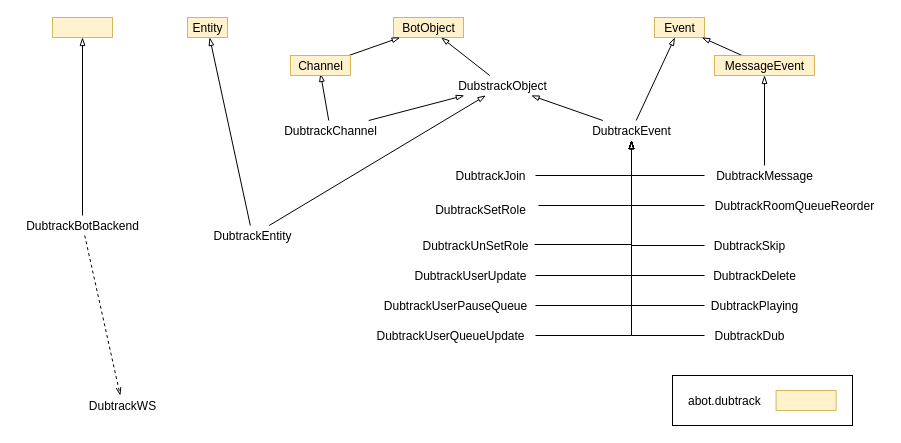
Some shapes in this 901 by 443 pixel diagram are drawn without their labels. The shapes that lost their labels are listed below. From the top down, each one's centre as x and y in pixels, then its label:
At point (82, 27): "Backend".
At point (805, 400): "abot.bot".
